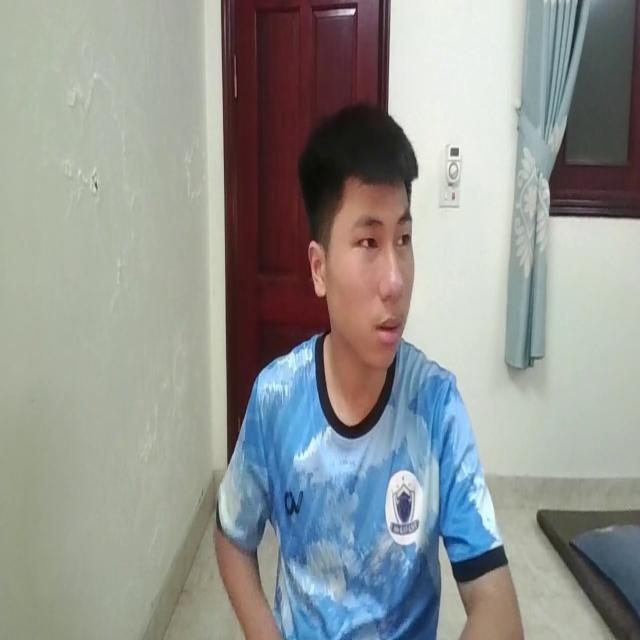student: (209, 99, 522, 640)
